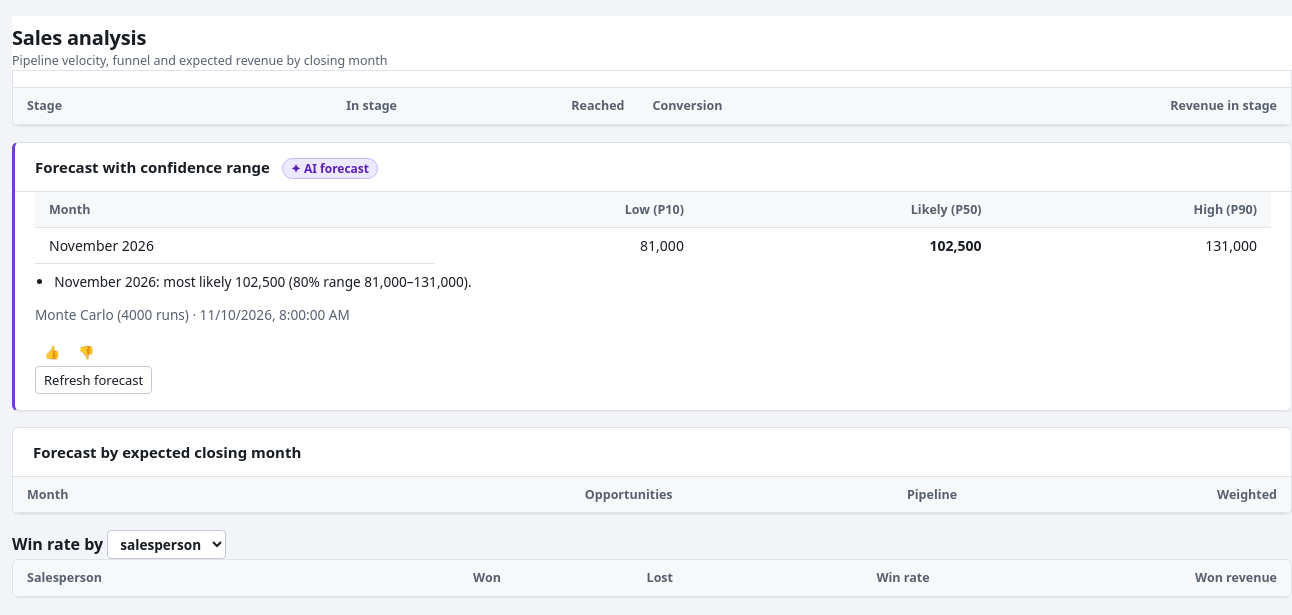
Test: CRM AI insights › adds the forecast with confidence range to the sales analysis
Check: the heading "Forecast with confidence range ✦ AI forecast" is shown, box [15,143,1291,192]
Check: the text "81,000" is shown, box [435,228,698,264]
Click the button "Refresh forecast": (94, 380) [35,366,152,394]
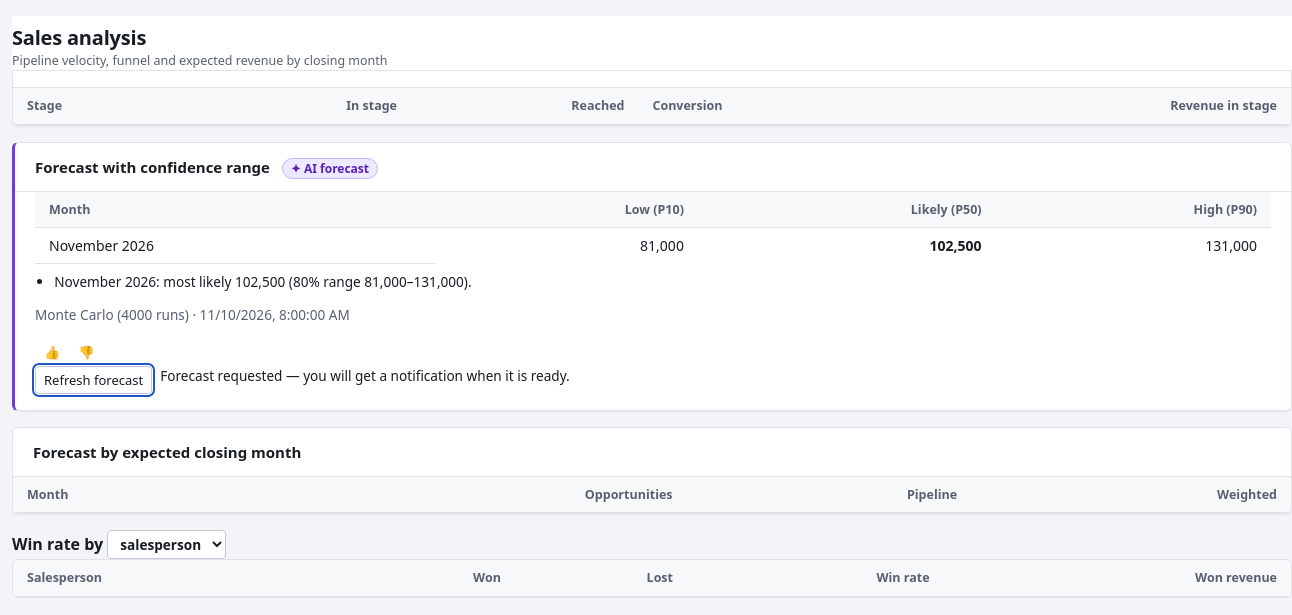
Check: the text "Forecast requested — you will get a notification when it is ready." is shown, box [160,366,570,394]
